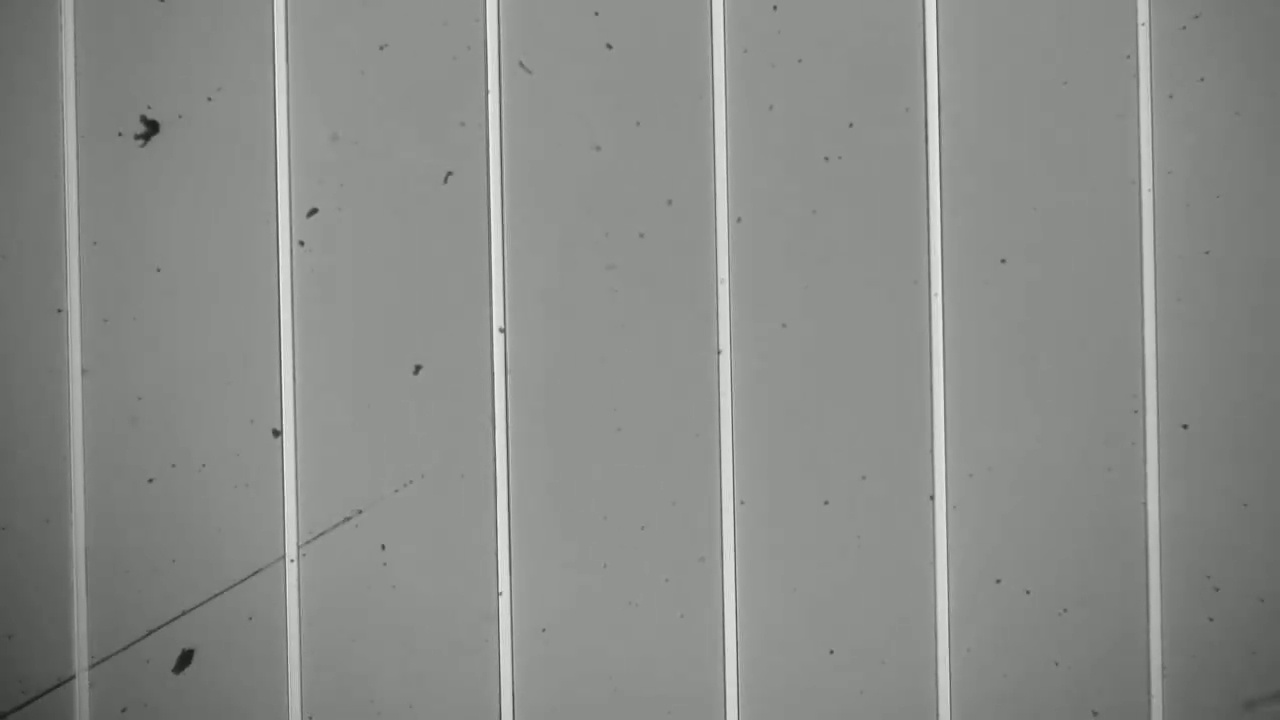scratch: (5, 477, 421, 716)
